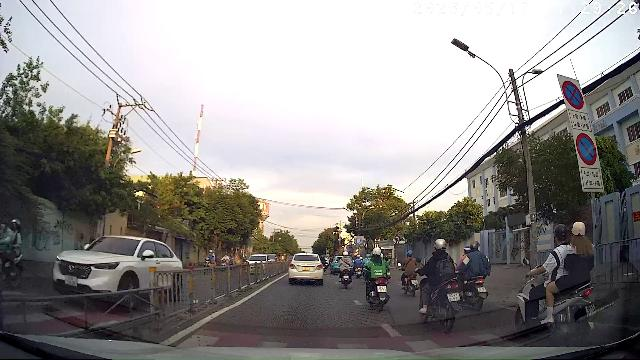130-cam-dung-va-do-xe: (562, 80, 584, 110)
131a-cam-do-xe: (576, 132, 596, 166)
